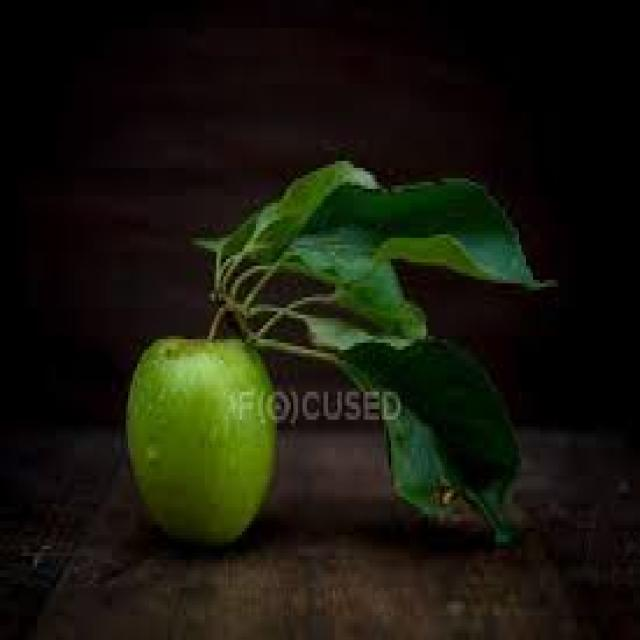non_orange: (125, 298, 347, 558)
